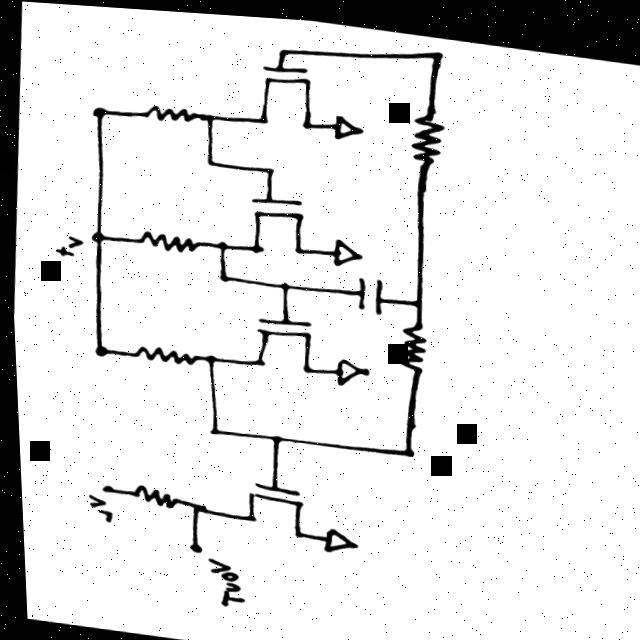capacitor: (352, 269, 382, 310)
ground: (317, 521, 354, 554), (332, 352, 368, 383), (330, 232, 360, 264), (331, 109, 364, 137)
junction: (88, 342, 104, 356), (200, 107, 217, 120), (185, 499, 201, 512), (215, 267, 230, 280), (89, 230, 103, 242), (397, 441, 411, 452), (203, 421, 217, 432), (262, 160, 275, 171), (92, 103, 105, 114), (275, 276, 289, 286), (276, 43, 290, 53), (429, 43, 443, 53), (266, 429, 278, 440), (213, 236, 225, 247), (201, 350, 213, 361), (202, 154, 215, 162), (411, 292, 422, 301)
resistor: (407, 101, 446, 158), (393, 315, 427, 367), (136, 225, 196, 253), (130, 340, 194, 366), (142, 99, 196, 124), (124, 480, 175, 506)
terminal: (182, 538, 197, 552), (95, 481, 109, 493)
text: (200, 554, 244, 606), (50, 230, 84, 261), (80, 491, 108, 521)
transistor: (251, 55, 316, 128), (245, 306, 313, 375), (246, 188, 307, 256), (240, 475, 301, 534)
